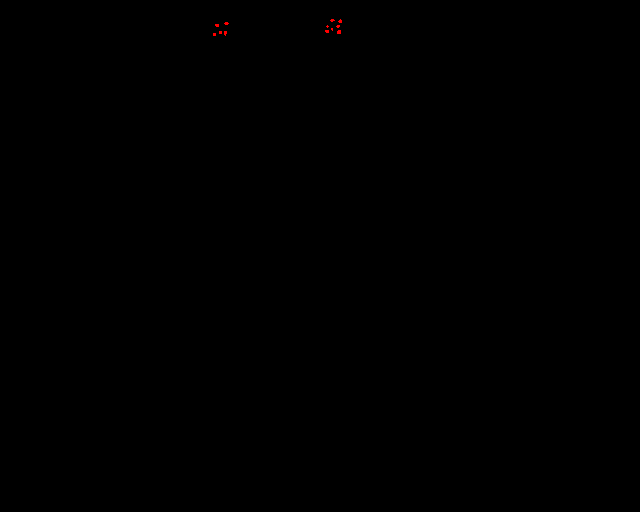Target: (338, 19, 342, 23), (337, 30, 341, 34), (330, 19, 335, 22), (224, 22, 229, 25), (224, 31, 227, 36), (215, 24, 219, 27), (336, 25, 340, 28), (325, 30, 329, 33), (326, 25, 329, 28), (219, 31, 222, 34), (213, 33, 216, 36), (331, 28, 333, 31)
